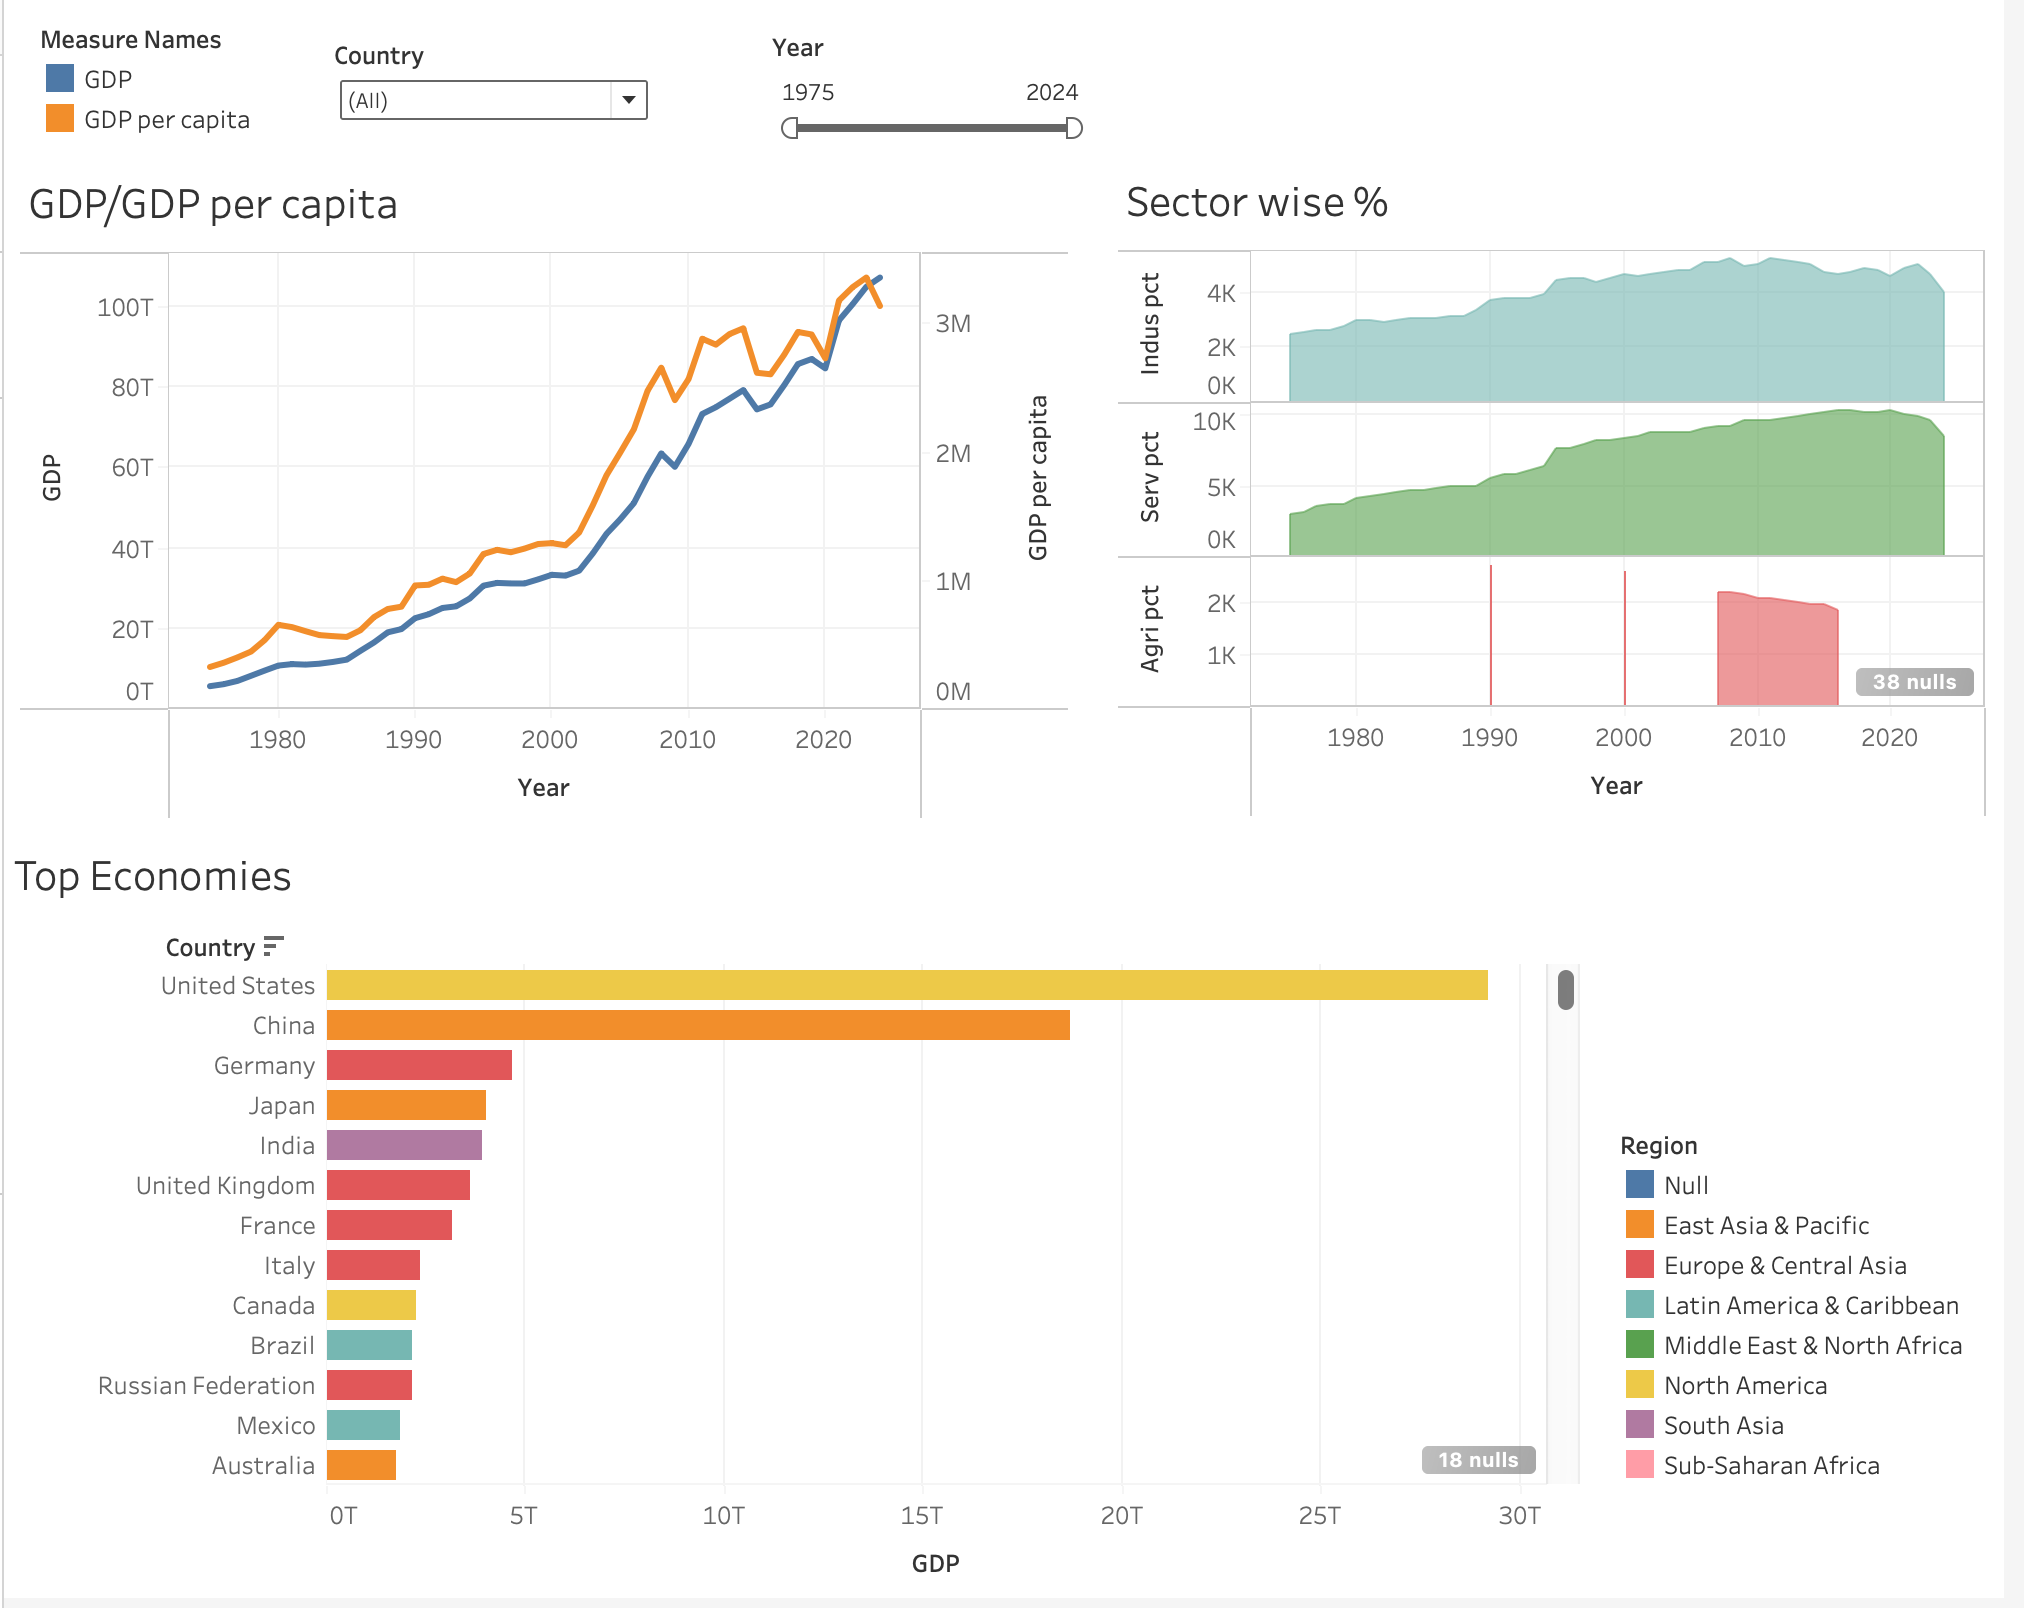

The dashboard page shown, as its layout file describes it:
{"tool":"tableau","page":{"name":"Dashboard 1","canvas":[1000,800],"ordinal":0},"visuals":[{"type":"legend","title":"GDP/GDP per capita","param":"[federated.14092091ptb7ll14yyaaz081gjgp].[:Measure Names]","box":[18,12,140,58]},{"type":"filter","title":"GDP/GDP per capita","param":"[federated.14092091ptb7ll14yyaaz081gjgp].[none:Year:qk]","box":[384,16,160,61]},{"type":"filter","title":"GDP/GDP per capita","param":"[federated.14092091ptb7ll14yyaaz081gjgp].[none:Country:nk]","box":[165,20,160,44]},{"type":"worksheet","title":"Sector wise %","mark":"Area","rows":["Indus_pct","Serv_pct","Agri_pct"],"cols":["Year"],"box":[557,83,434,328]},{"type":"worksheet","title":"GDP/GDP per capita","mark":"Automatic","rows":["GDP","GDP_per_capita"],"cols":["Year"],"box":[8,84,525,327]},{"type":"worksheet","title":"Top Economies","mark":"Automatic","rows":["Country"],"cols":["GDP"],"box":[1,420,787,378]},{"type":"legend","title":"Top Economies","param":"[federated.14092091ptb7ll14yyaaz081gjgp].[none:Region:nk]","box":[808,565,186,193]}]}

Visuals, with their boxes in screenshot pixels (x1, y1, x2, y2), scaled from the page's 1000x800 canvas onto the 2024x1608 screenshot:
"GDP/GDP per capita" legend: 36,24,320,141
"GDP/GDP per capita" filter: 777,32,1101,155
"GDP/GDP per capita" filter: 334,40,658,129
"Sector wise %" worksheet (Area marks): 1127,167,2006,826
"GDP/GDP per capita" worksheet: 16,169,1079,826
"Top Economies" worksheet: 2,844,1595,1604
"Top Economies" legend: 1635,1136,2012,1524
